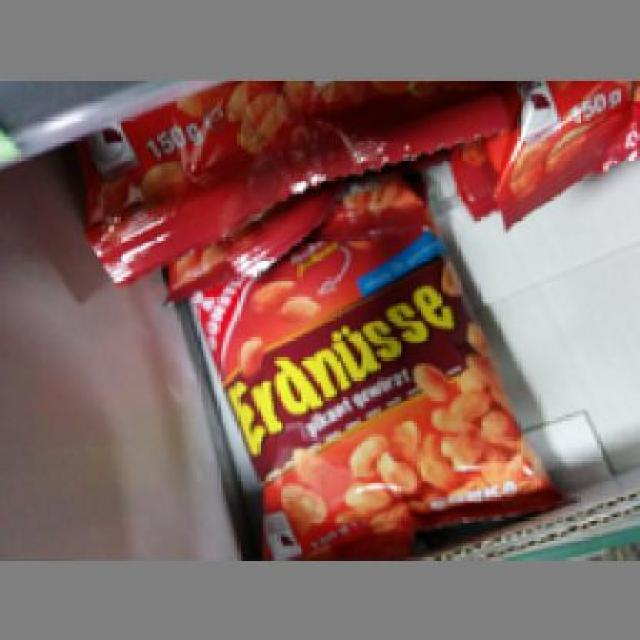Nuts: (188, 174, 568, 557)
